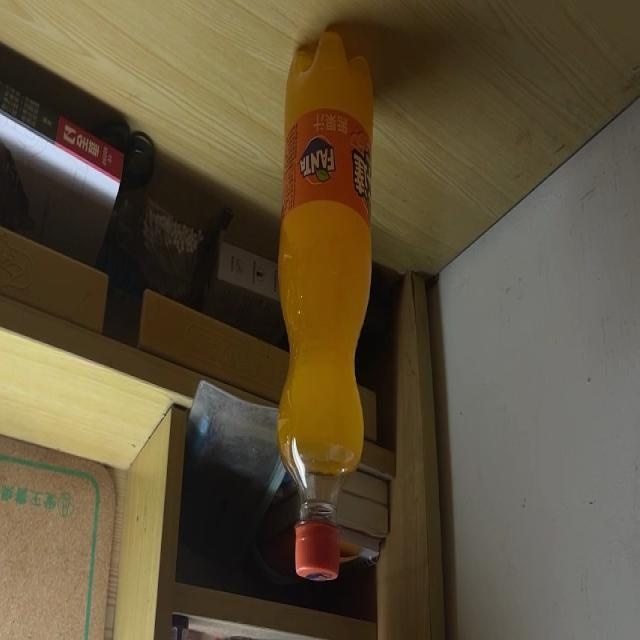Fanta: (278, 29, 371, 579)
